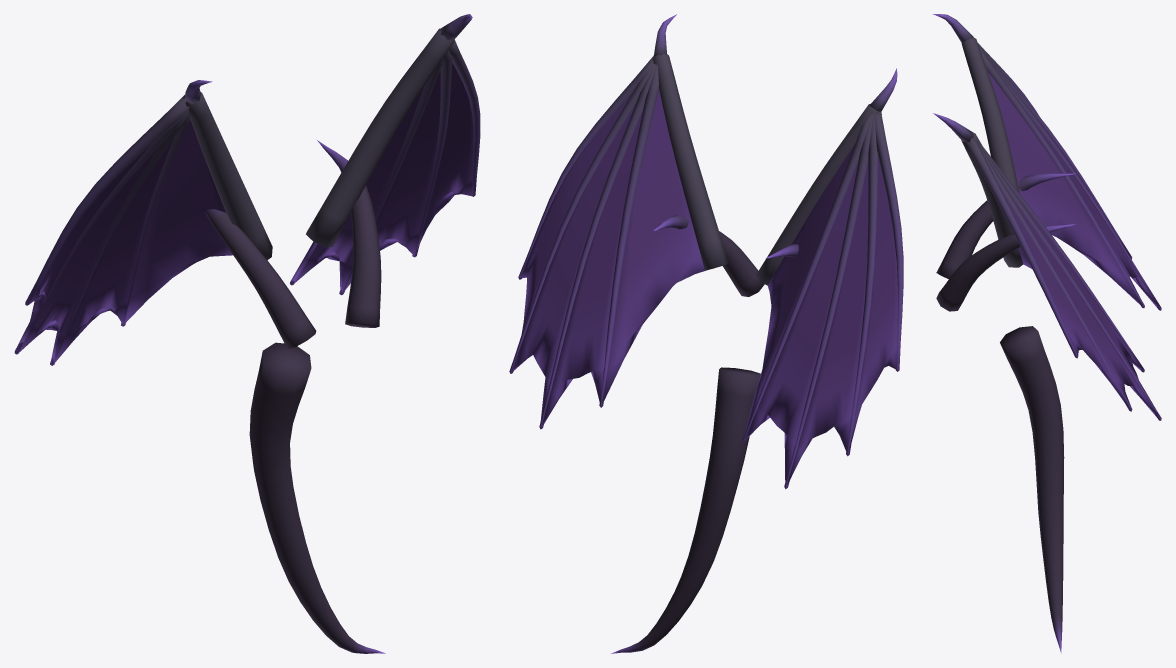
Rendered from dark_dragon_parts.glb.
3 views of the same model, side by side, from view 1: azimuth 30°, elevation 25°; view 2: azimuth 150°, elevation 25°; view 3: azimuth 270°, elevation 25° (orthographic). The views are drawn at different scales.
Parts seen in each view (by area): view 1: r0_CC_Base_Spine02, r0_CC_Base_Pelvis, r0_CC_Base_Head; view 2: r0_CC_Base_Spine02, r0_CC_Base_Pelvis, r0_CC_Base_Head; view 3: r0_CC_Base_Spine02, r0_CC_Base_Pelvis, r0_CC_Base_Head.
Part boxes in pixels (box(x1,y1,x2,y2)): r0_CC_Base_Spine02: box(14, 14, 480, 365); r0_CC_Base_Pelvis: box(249, 342, 385, 653); r0_CC_Base_Head: box(205, 140, 381, 349); r0_CC_Base_Spine02: box(509, 14, 903, 489); r0_CC_Base_Pelvis: box(611, 367, 760, 653); r0_CC_Base_Head: box(653, 215, 798, 296); r0_CC_Base_Spine02: box(932, 14, 1161, 420); r0_CC_Base_Pelvis: box(1000, 326, 1064, 653); r0_CC_Base_Head: box(936, 173, 1075, 311).
Bounding box in the file's own units: 1.49 × 2.2 × 0.845.
